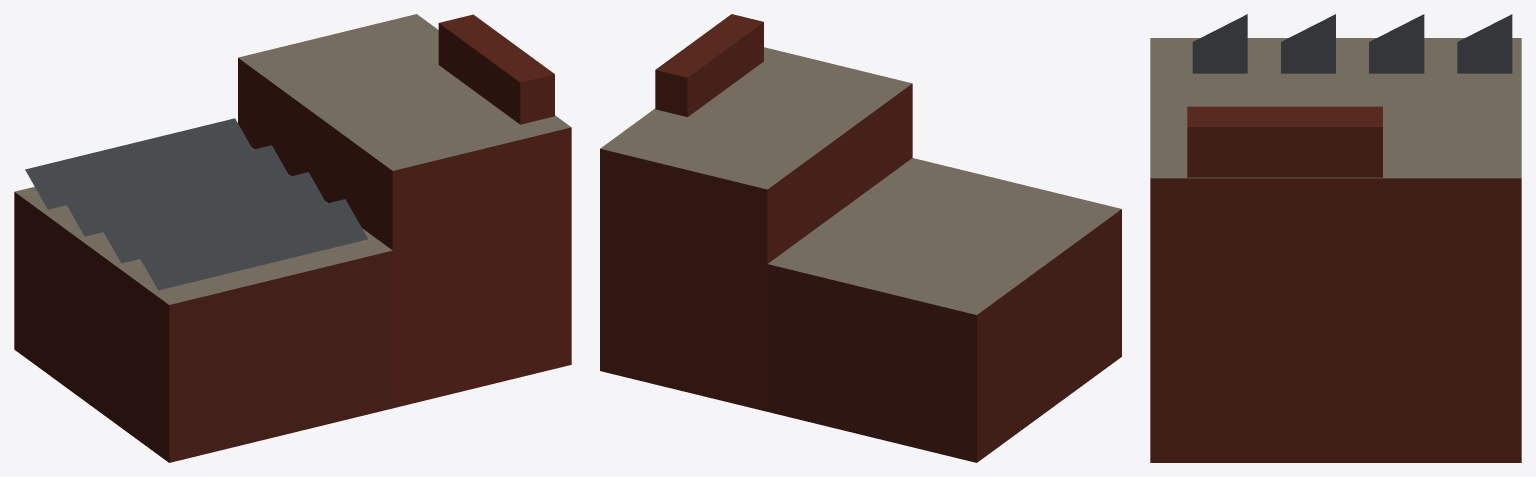
Rendered from mh-sawtooth-works.towns-v1.lod2.glb.
3 views of the same model, side by side, from view 1: azimuth 30°, elevation 25°; view 2: azimuth 150°, elevation 25°; view 3: azimuth 270°, elevation 25° (orthographic). The views are drawn at different scales.
Visible parts, largest first — view 1: mh-sawtooth-works; view 2: mh-sawtooth-works; view 3: mh-sawtooth-works.
Part boxes in pixels (bbox=[...]): mh-sawtooth-works: bbox=[14, 14, 571, 462]; mh-sawtooth-works: bbox=[600, 14, 1121, 462]; mh-sawtooth-works: bbox=[1150, 14, 1521, 462].
Bounding box in the file's own units: 18 × 11.95 × 12.
